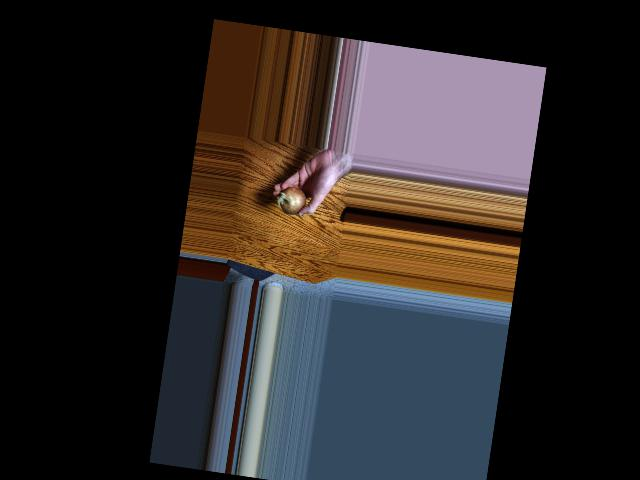onion: (278, 183, 308, 215)
